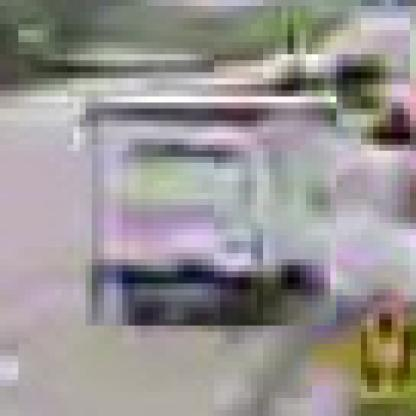truck: (87, 98, 344, 333)
